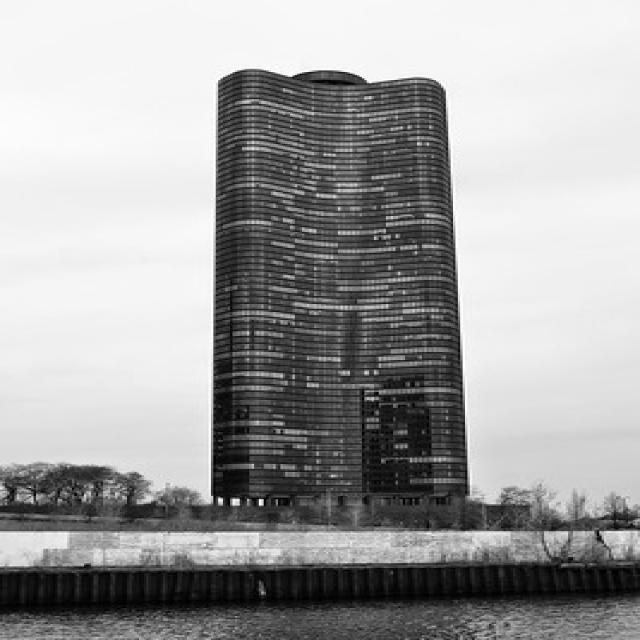building: (200, 62, 478, 526)
